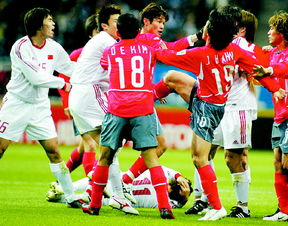fall: (35, 154, 200, 213)
